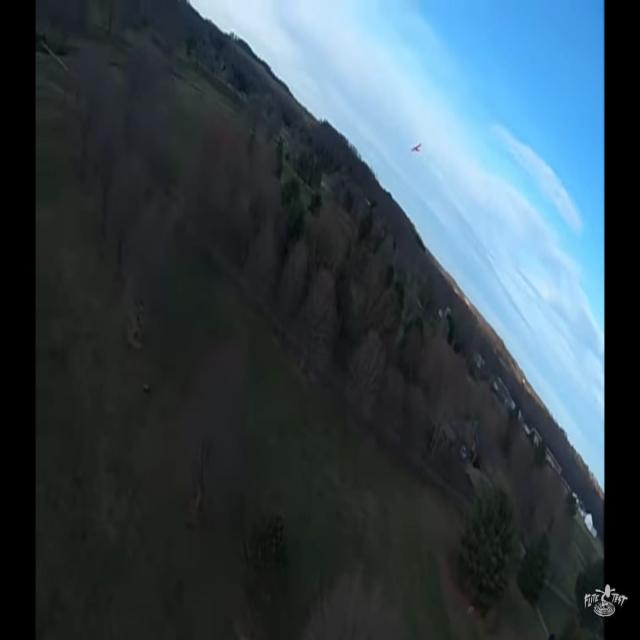iha: (410, 139, 422, 155)
